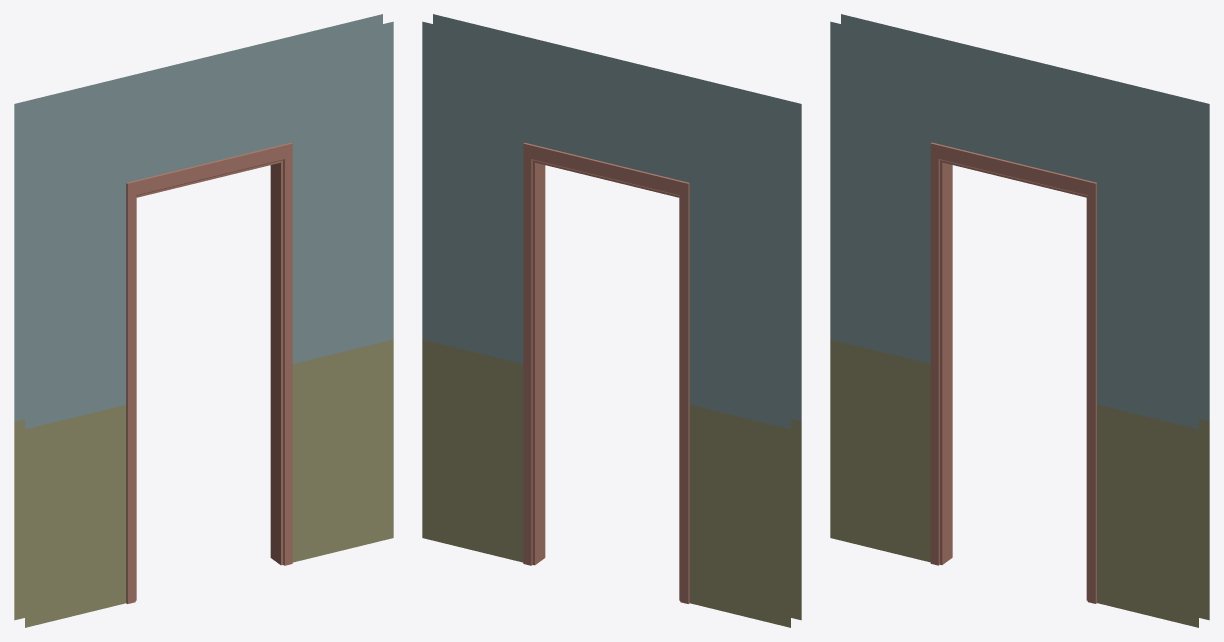
Rendered from DoorWay.fbx.
3 views of the same model, side by side, from view 1: azimuth 30°, elevation 25°; view 2: azimuth 150°, elevation 25°; view 3: azimuth 330°, elevation 25° (orthographic).
Visible parts, largest first — view 1: Doorway; view 2: Doorway; view 3: Doorway.
Boxes of the visible parts, <box> form: Doorway: <box>14,14,393,627</box>; Doorway: <box>422,14,801,627</box>; Doorway: <box>830,14,1209,627</box>.
Size of the model in its own units: 2.58 by 3.46 by 0.1578.
